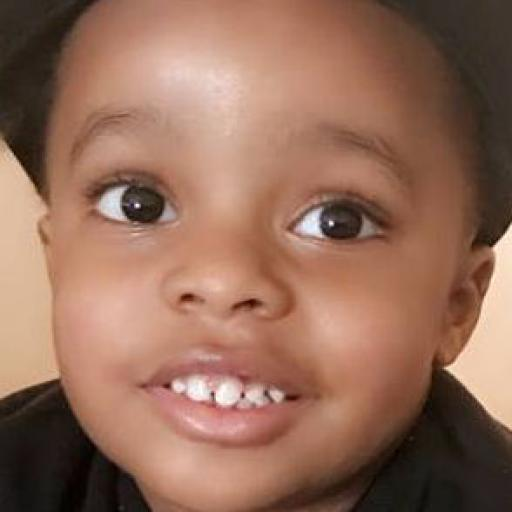Autism: (7, 2, 512, 500)
